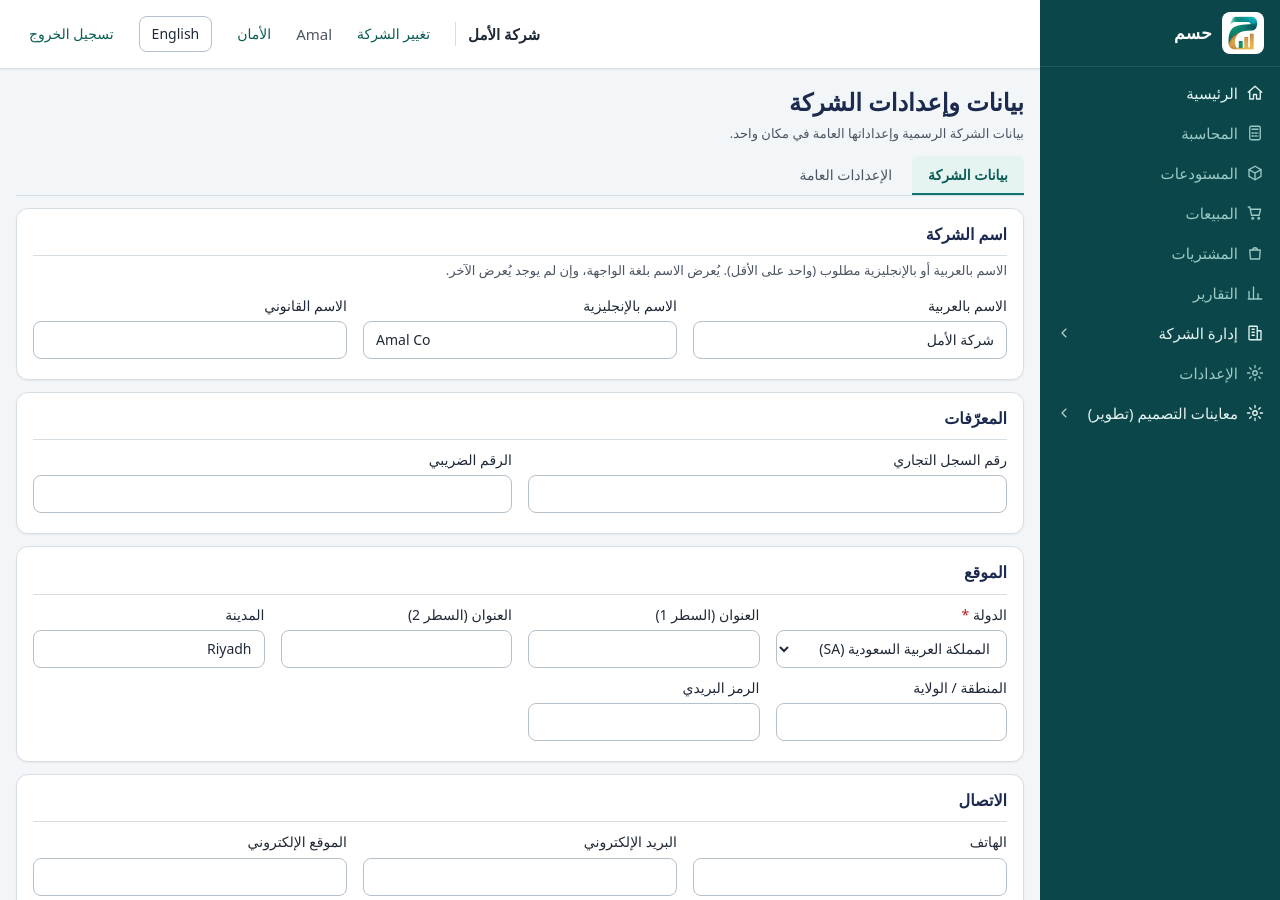
Test: Windows desktop: native window-close request › while the shell is locked (session ended with unsaved input) › the close request is NOT silently ignored: it is prevented and the Stay / Discard question appears above the dialog, without naming any section or value
Expected: the element with test id "company-name" is shown, x1=455 y1=22 x2=540 y2=46
Step 1. Replace the text in the field labelled "المدينة" with "Jeddah" → coordinates (149, 649), box x1=33 y1=630 x2=264 y2=668
(page scrolled)
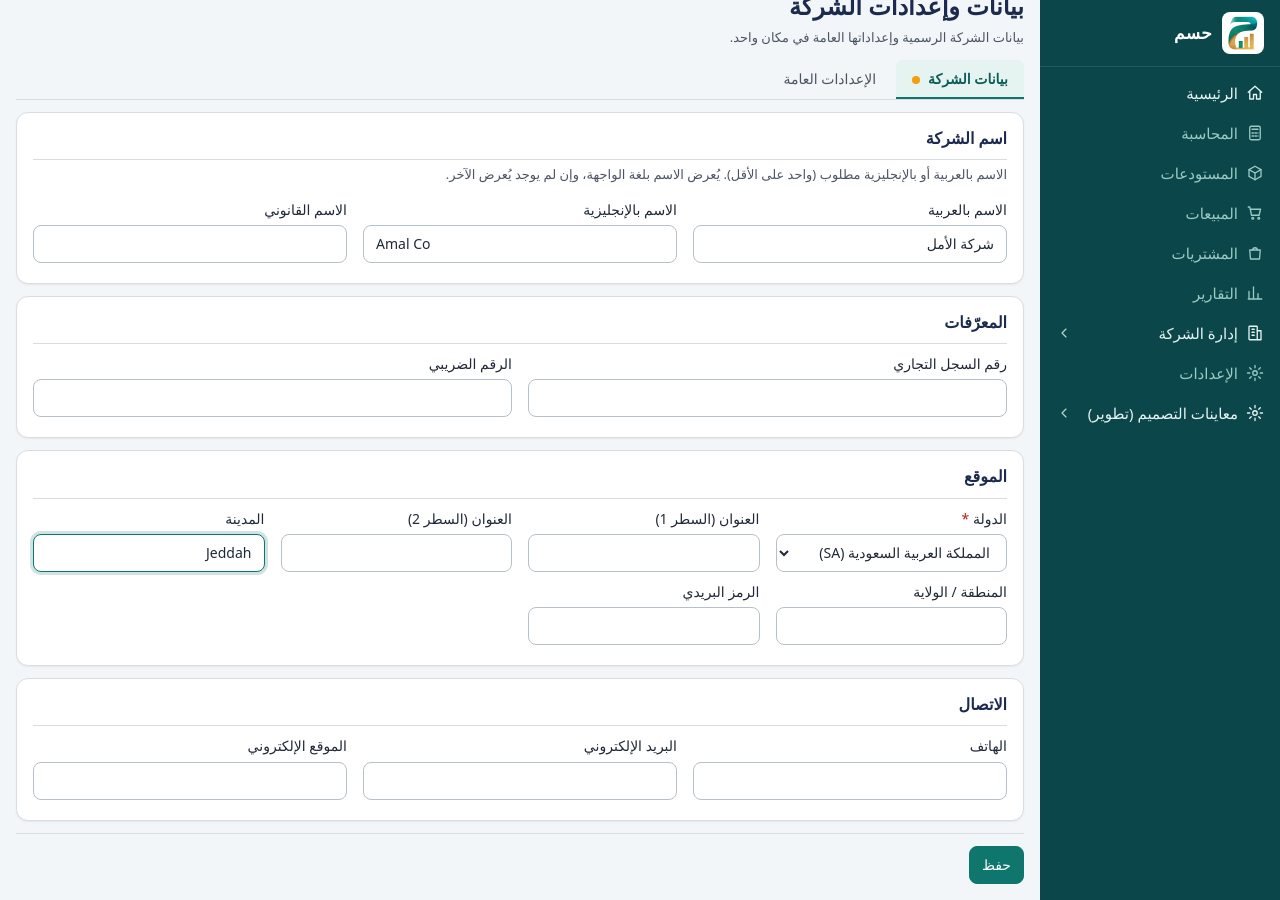
Step 2. Click the button "حفظ" → coordinates (996, 864), box x1=969 y1=846 x2=1024 y2=884
(page scrolled)
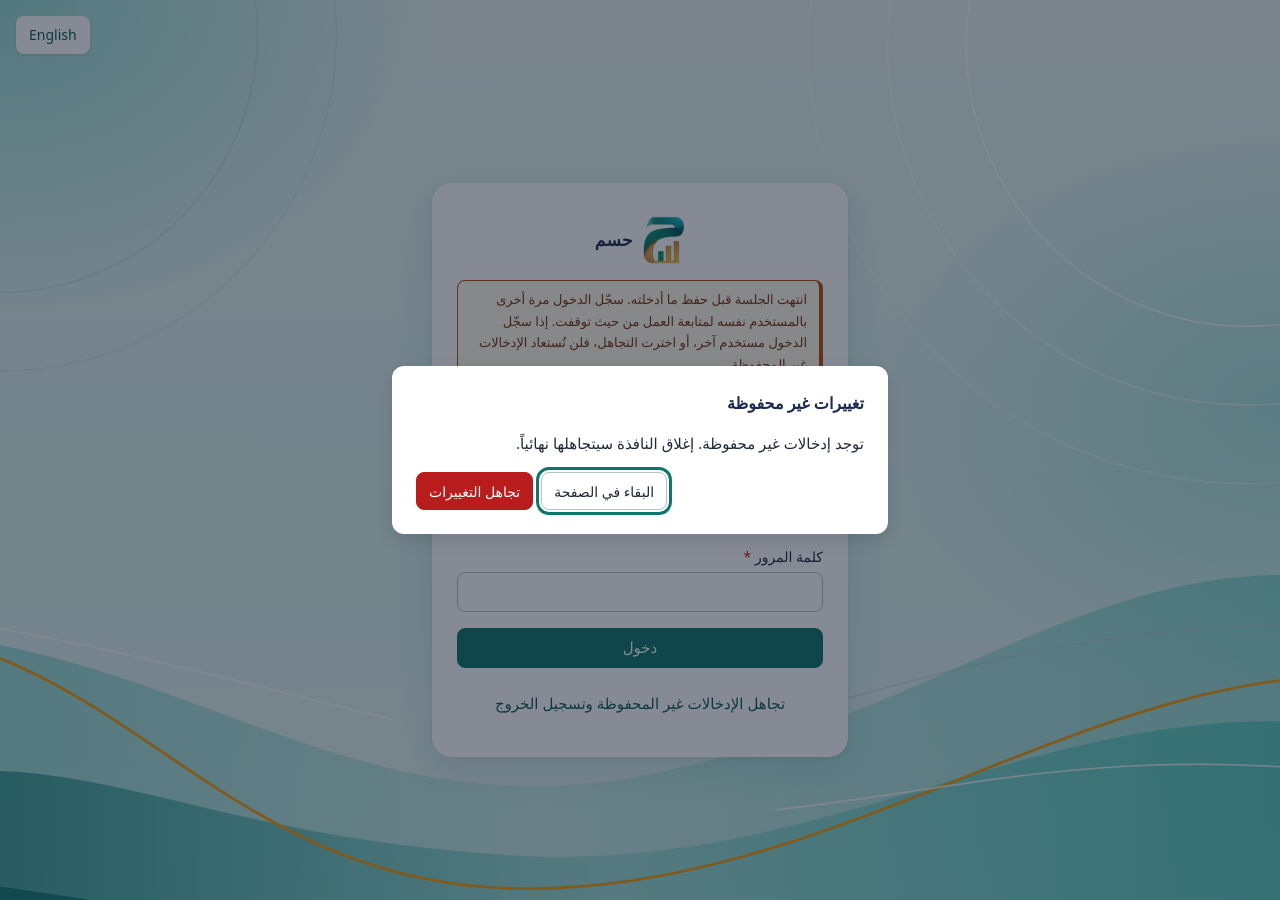
Expected: the dialog with test id "reauth-dialog" is shown
Expected: the number of dialogs is 2
Expected: the dialog that starts with "تغييرات غير محفوظة" shows "توجد إدخالات غير محفوظة. إغلاق النافذة سيتجاهلها نهائياً.", x1=516 y1=433 x2=864 y2=453
